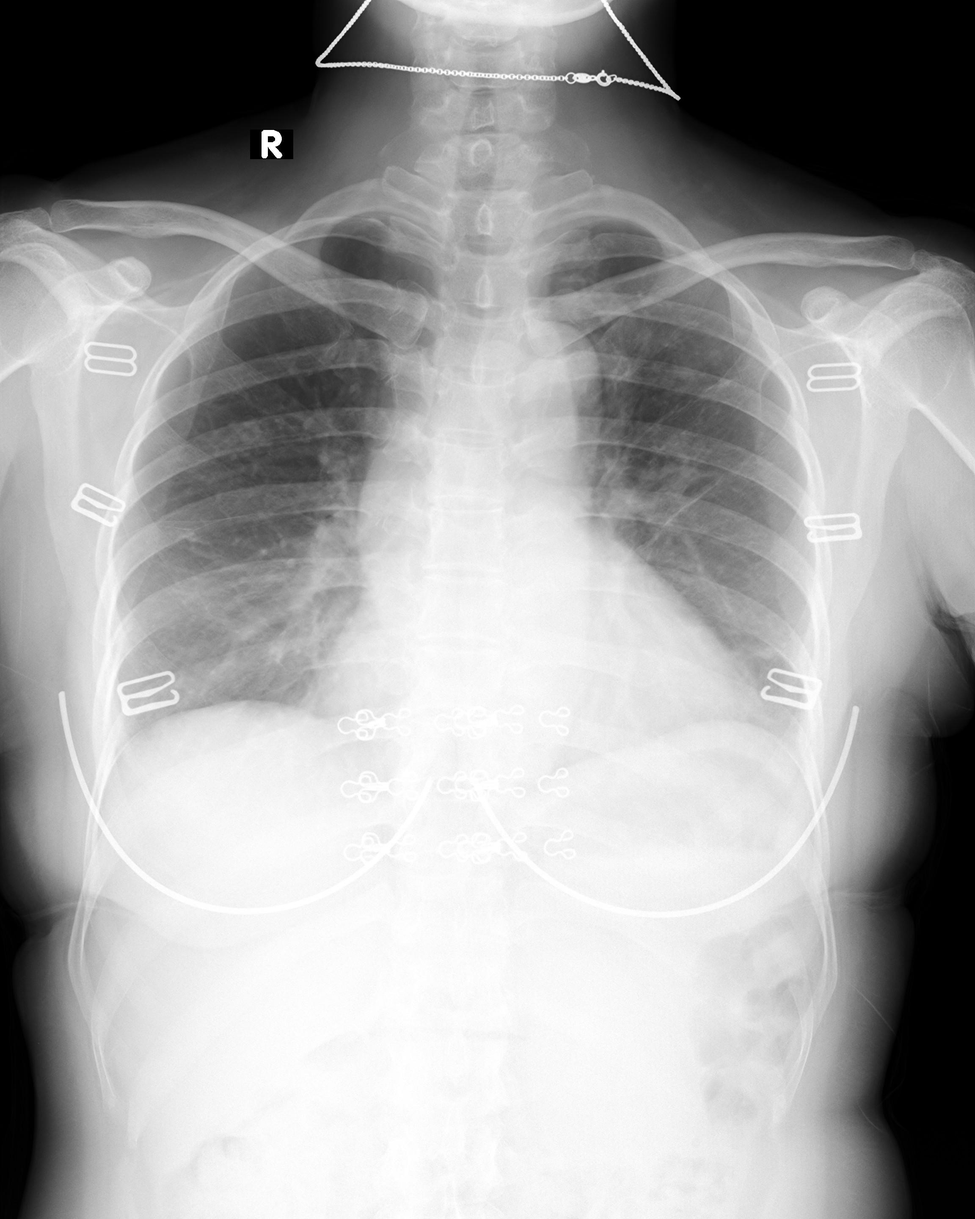Aortic enlargement: (364, 302, 606, 573)
